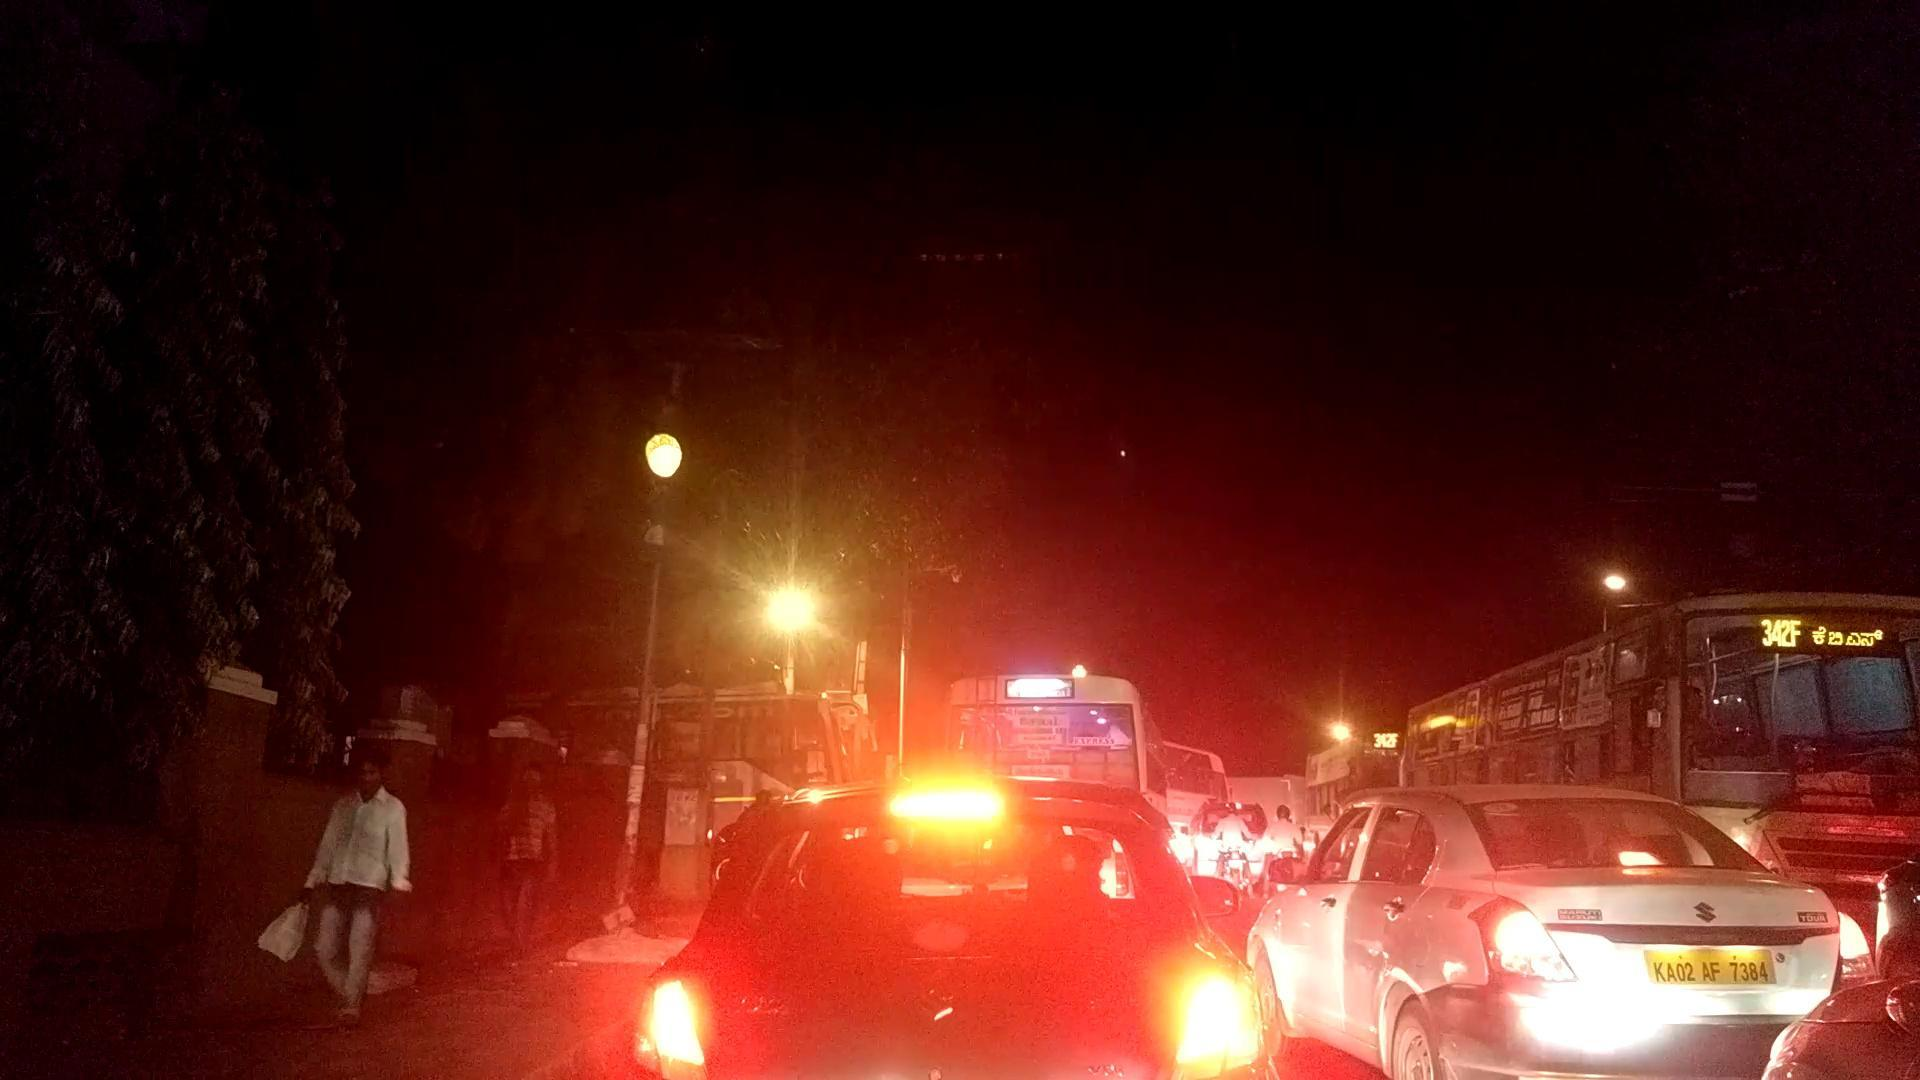on: (580, 372, 1023, 811)
